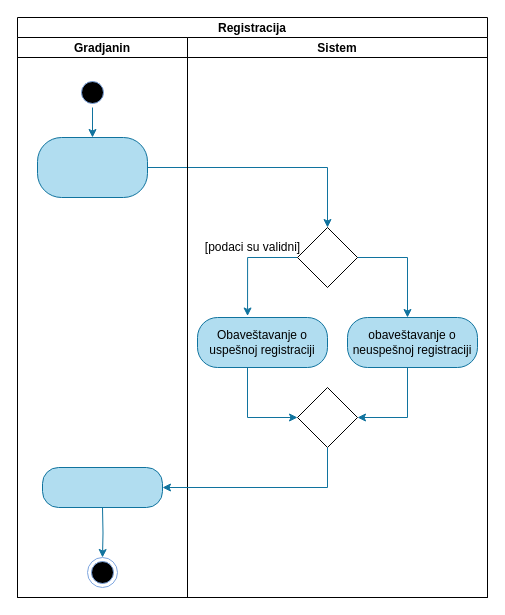
Image size: 505x615. Some labels were removed from this diagram. Each missing label, with the centre of its shape:
Popunjavanje forme za registraciju: the point at 92,167
Prijem obaveštenja o registraciji: the point at 102,487
